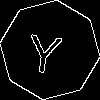Y: (25, 25, 65, 75)
